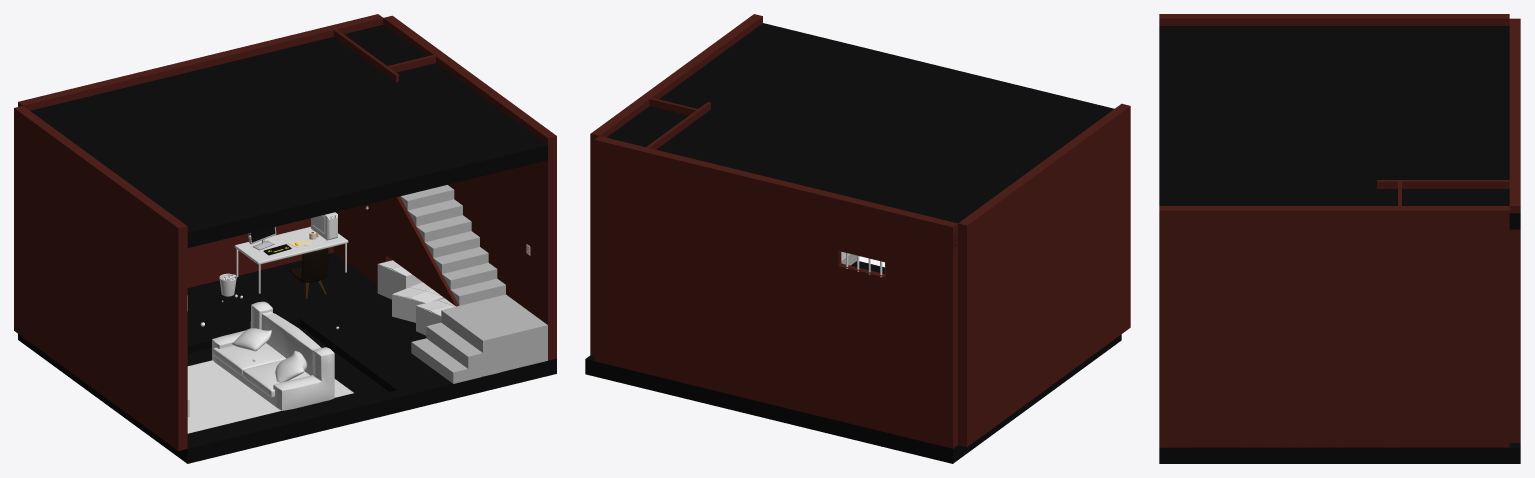
File: Sotano.FBX
The picture shows the model from 3 angles, left to right: view 1: azimuth 30°, elevation 25°; view 2: azimuth 150°, elevation 25°; view 3: azimuth 270°, elevation 25°; orthographic projection. The views are drawn at different scales.
Parts seen in each view (by area): view 1: Techo, Pared3, Suelo, Escaleras, Pared2, Pared1, Sofá, Alfombra, Mesa, Box004, Caja5, Silla (+6 smaller); view 2: Pared1, Techo, Pared3, Suelo, Pared2, Escaleras; view 3: Pared2, Techo, Suelo, Pared1, Pared3, Escaleras.
Part boxes in pixels (x1,y1,x2,y2): Techo: [30, 24, 547, 247]; Pared3: [14, 106, 187, 450]; Suelo: [18, 252, 556, 463]; Escaleras: [332, 28, 547, 383]; Pared2: [383, 15, 556, 360]; Pared1: [18, 14, 383, 287]; Sofá: [212, 301, 334, 410]; Alfombra: [187, 360, 353, 433]; Mesa: [234, 226, 348, 293]; Box004: [213, 343, 285, 375]; Caja5: [392, 282, 444, 322]; Silla: [289, 248, 328, 298]; Pared1: [594, 136, 957, 448]; Techo: [607, 23, 1114, 248]; Pared3: [958, 103, 1130, 447]; Suelo: [585, 261, 1121, 463]; Pared2: [590, 14, 762, 355]; Escaleras: [644, 102, 856, 265]; Pared2: [1159, 206, 1509, 447]; Techo: [1159, 26, 1520, 229]; Suelo: [1159, 443, 1520, 463]; Pared1: [1509, 18, 1520, 442]; Pared3: [1159, 14, 1509, 25]; Escaleras: [1377, 180, 1512, 188].
Size of the model in its own units: 259 by 156 by 201.
